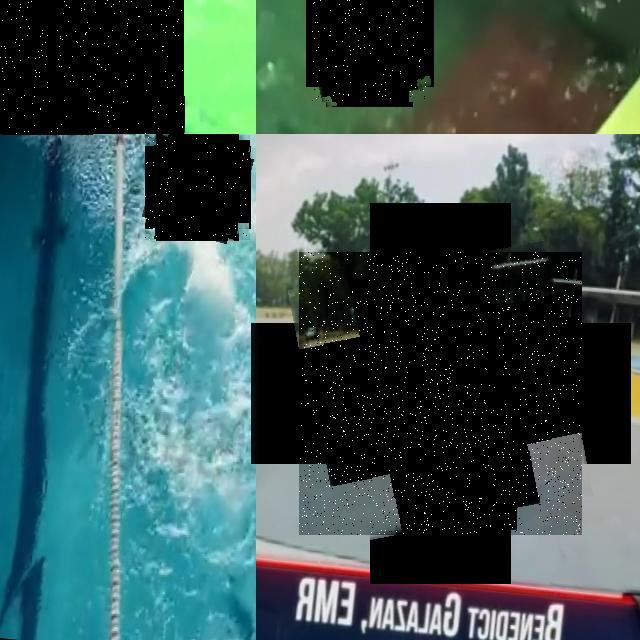3: (311, 0, 427, 102)
6: (0, 0, 184, 134), (145, 135, 250, 240)
drowning: (299, 252, 582, 535)
